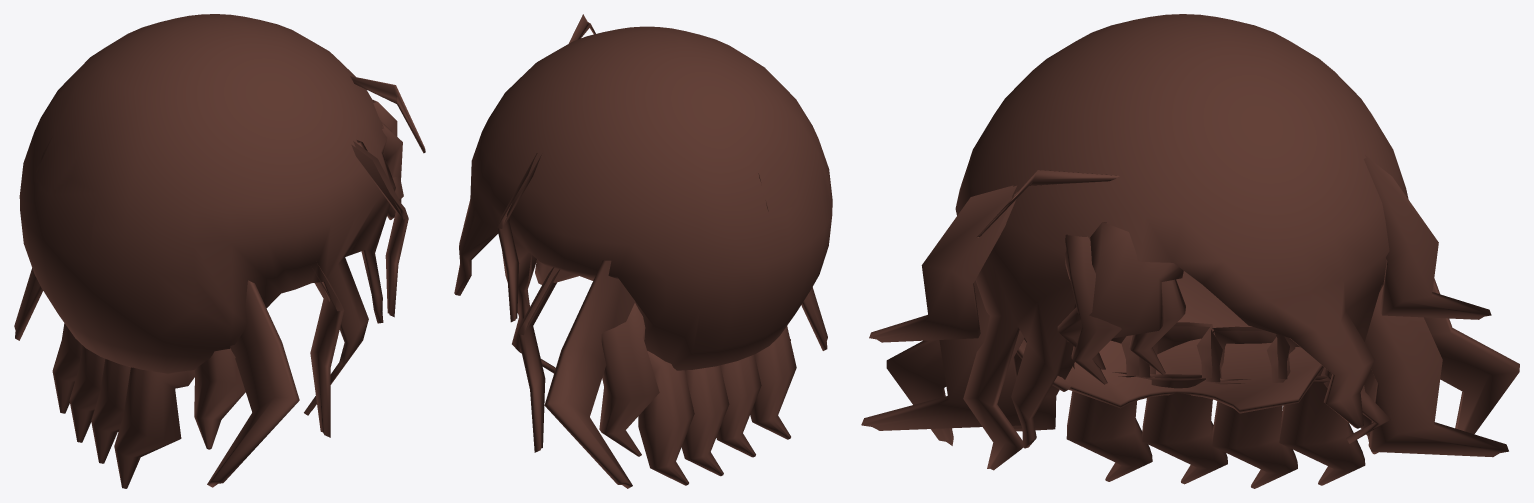
The model's file is AgnaHair.glb.
The picture shows the model from 3 angles, left to right: view 1: azimuth 30°, elevation 25°; view 2: azimuth 150°, elevation 25°; view 3: azimuth 270°, elevation 25°; orthographic projection. The views are drawn at different scales.
Visible parts, largest first — view 1: AgnaHair; view 2: AgnaHair; view 3: AgnaHair.
Part boxes in pixels (left/top/right/bottom): AgnaHair: left=14, top=14, right=425, bottom=488; AgnaHair: left=454, top=14, right=832, bottom=488; AgnaHair: left=861, top=14, right=1519, bottom=488.
Size of the model in its own units: 6.67 by 7.88 by 9.14.
